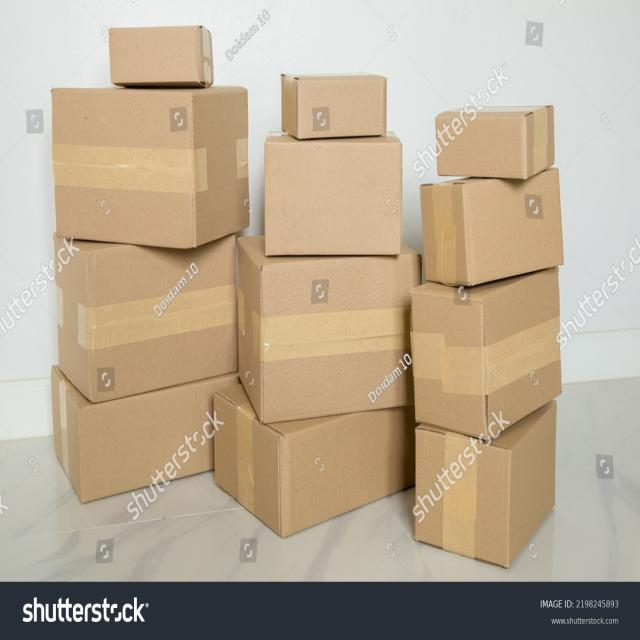BoxFace: (262, 252, 424, 423), (87, 236, 236, 401), (49, 87, 195, 248), (75, 369, 236, 507), (264, 140, 402, 254), (482, 267, 561, 437), (415, 430, 508, 570), (462, 168, 565, 288), (212, 394, 280, 534), (436, 111, 526, 179), (108, 22, 204, 84), (297, 78, 388, 140)
